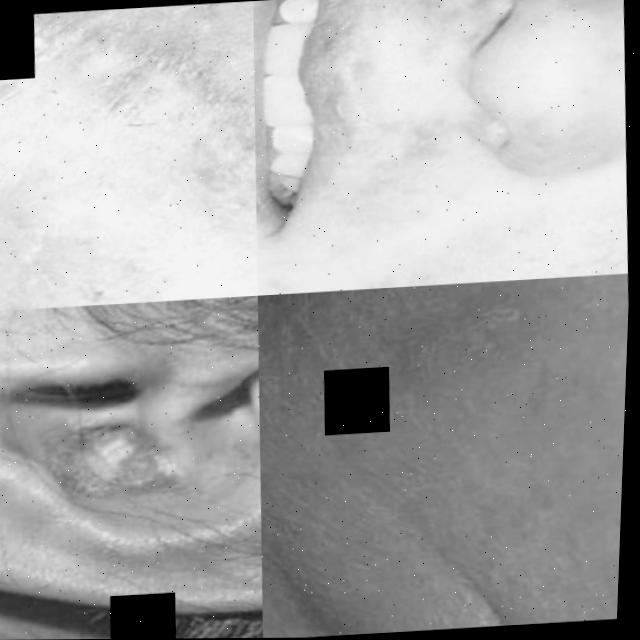lupus-detected: (0, 9, 268, 312), (323, 275, 613, 489), (0, 326, 235, 581), (508, 0, 637, 260)
